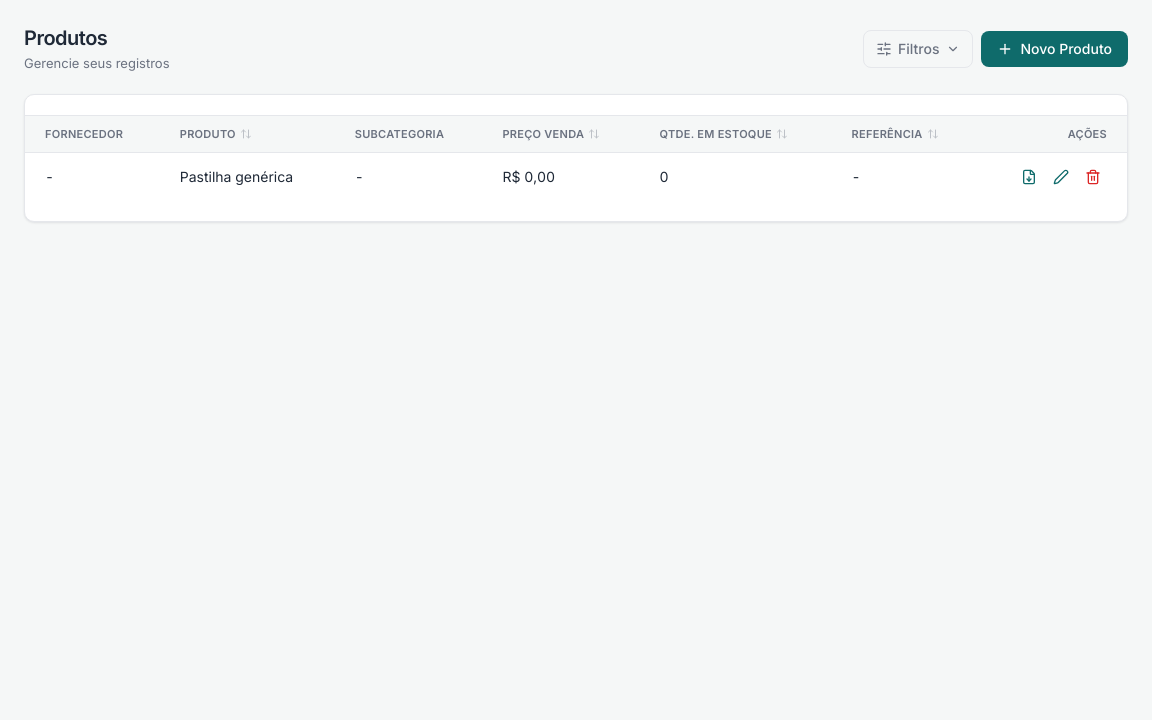
<ProductList> › filtra por fornecedor pelo painel de Filtros
expect the text "Pastilha genérica" is shown: met, box x1=160 y1=152 x2=335 y2=201
What coordinates should you click on to do the following:
click the button "Filtros"
I would click on:
 (918, 49)
Its box is x1=863 y1=30 x2=972 y2=68.
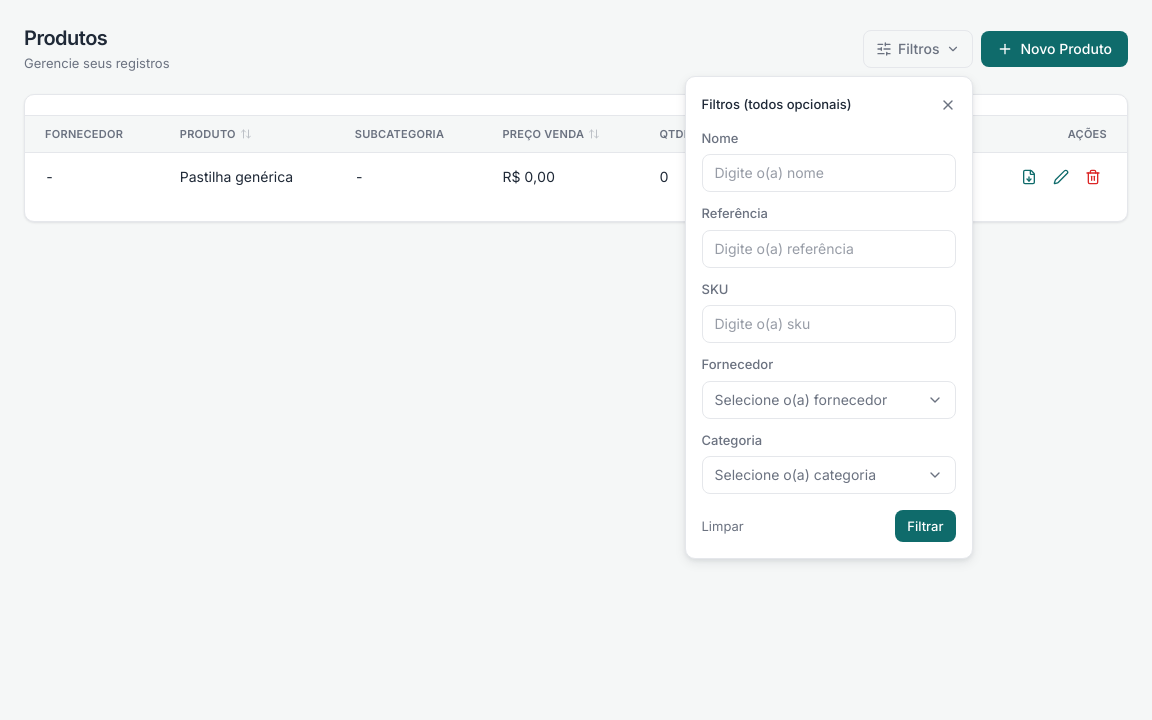
What coordinates should you click on to do the following:
click the button "Selecione o(a) fornecedor"
I would click on:
 (828, 400)
Its box is x1=702 y1=381 x2=956 y2=419.
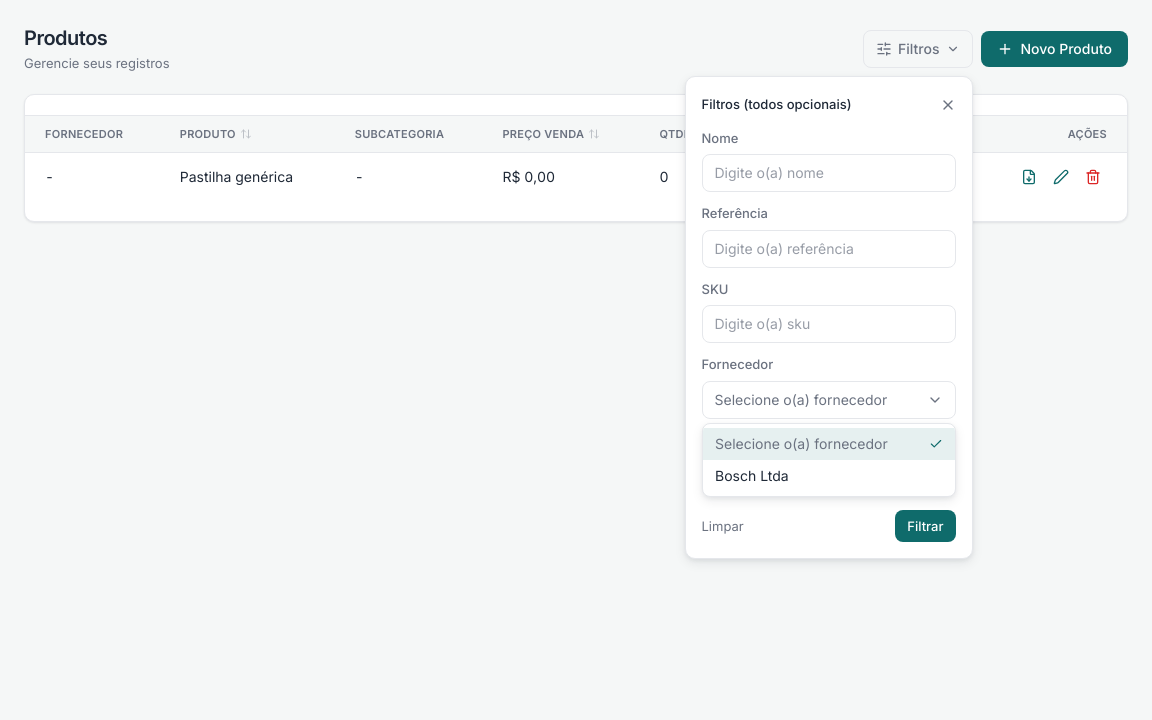
What coordinates should you click on to do the following:
click the option "Bosch Ltda"
I would click on:
 (752, 476)
Its box is x1=715 y1=467 x2=789 y2=484.
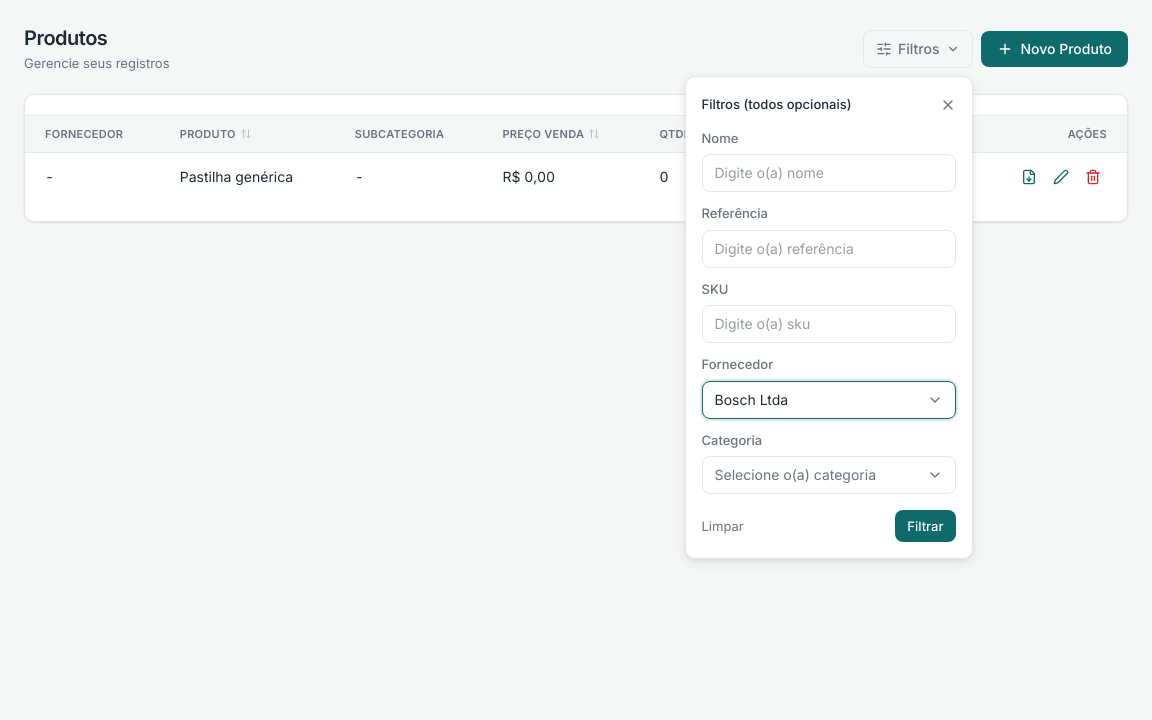
What coordinates should you click on to do the following:
click the button "Filtrar"
I would click on:
 (925, 526)
Its box is x1=895 y1=510 x2=956 y2=542.
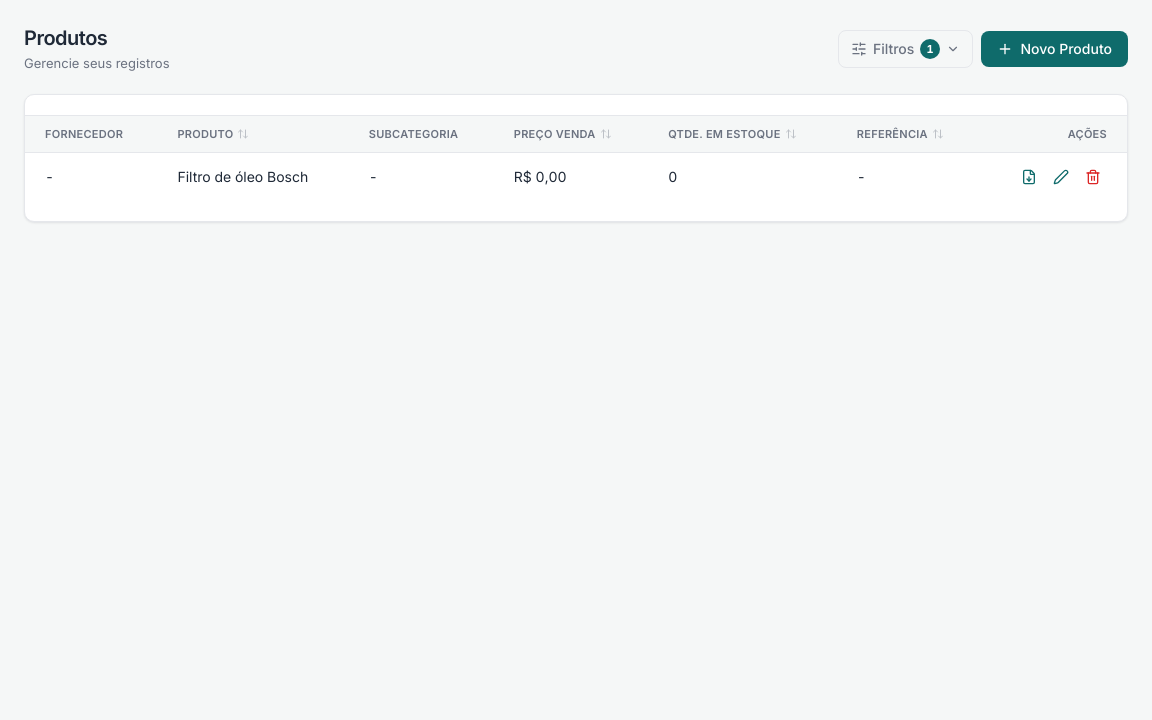
expect the text "Filtro de óleo Bosch" is shown: met, box x1=157 y1=152 x2=349 y2=201
expect the text "Pastilha genérica" is gone: met
